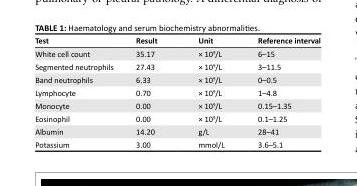table: (34, 34, 319, 149)
table column: (34, 34, 123, 149), (240, 34, 319, 149), (176, 34, 240, 149), (123, 34, 176, 149)
table column header: (34, 34, 319, 46)
table row: (34, 46, 319, 59), (34, 59, 319, 72), (34, 72, 319, 85), (34, 85, 319, 98), (34, 98, 319, 111), (34, 111, 319, 124), (34, 124, 319, 137), (34, 34, 319, 46), (34, 137, 319, 149)
